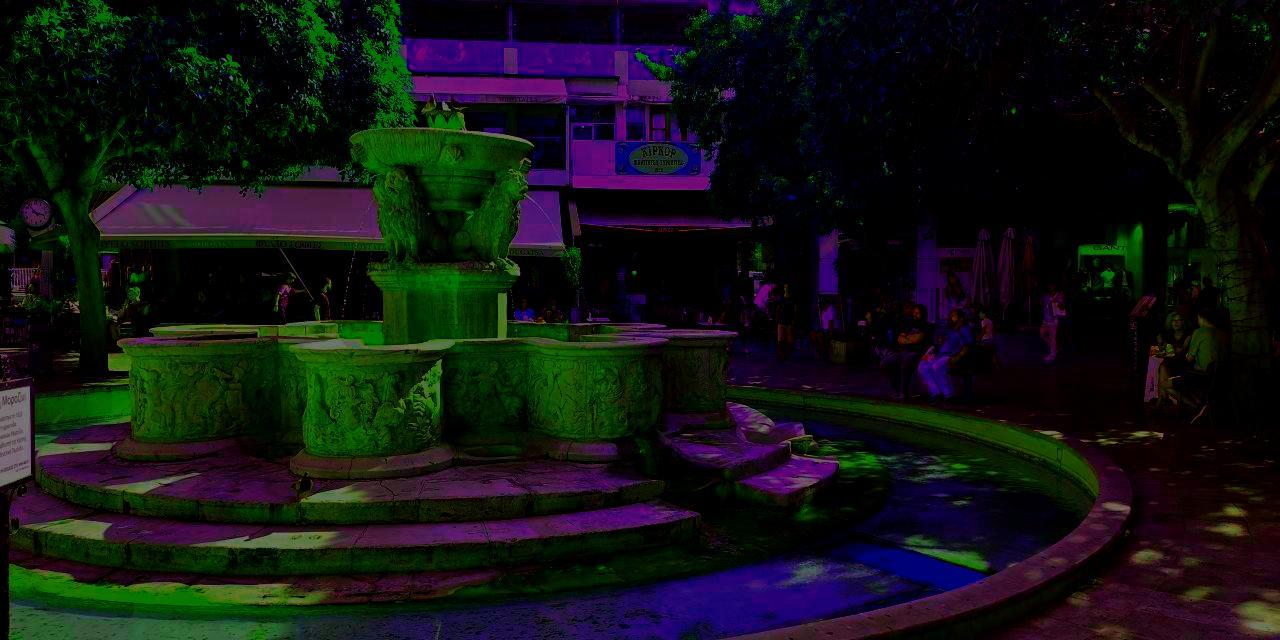Liontaria: (122, 129, 737, 487)
